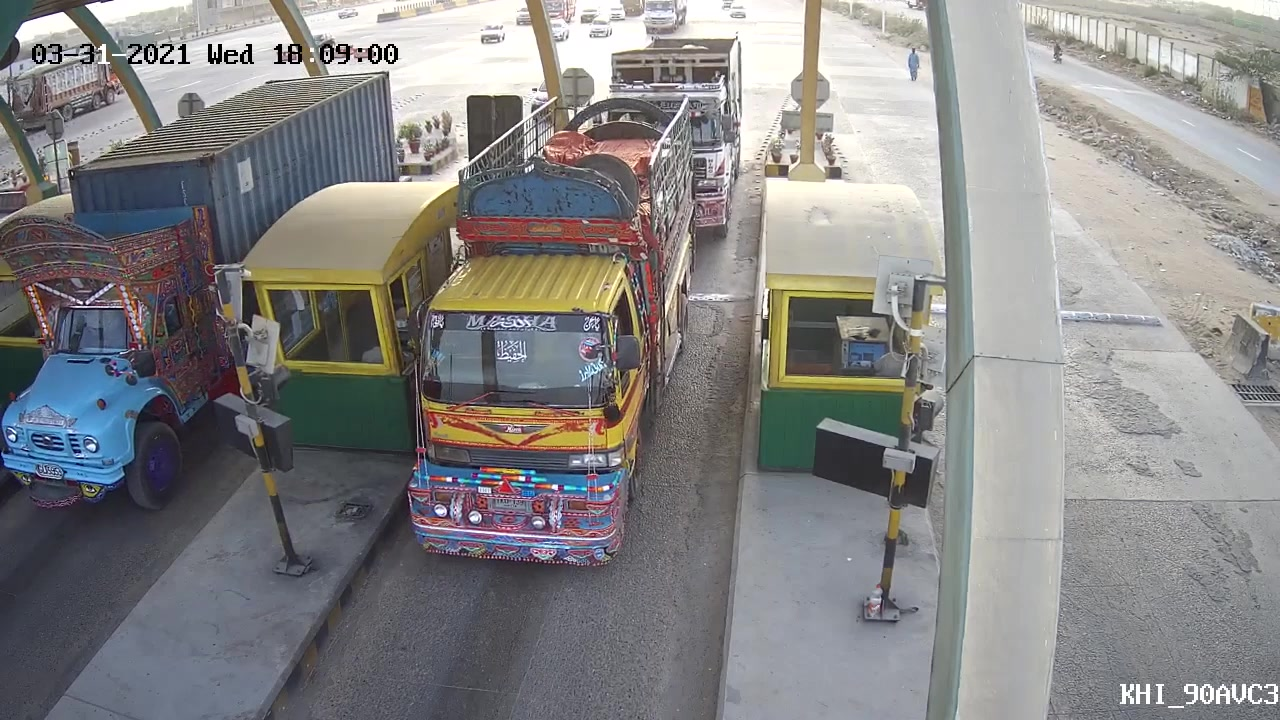F5: (398, 87, 700, 572)
